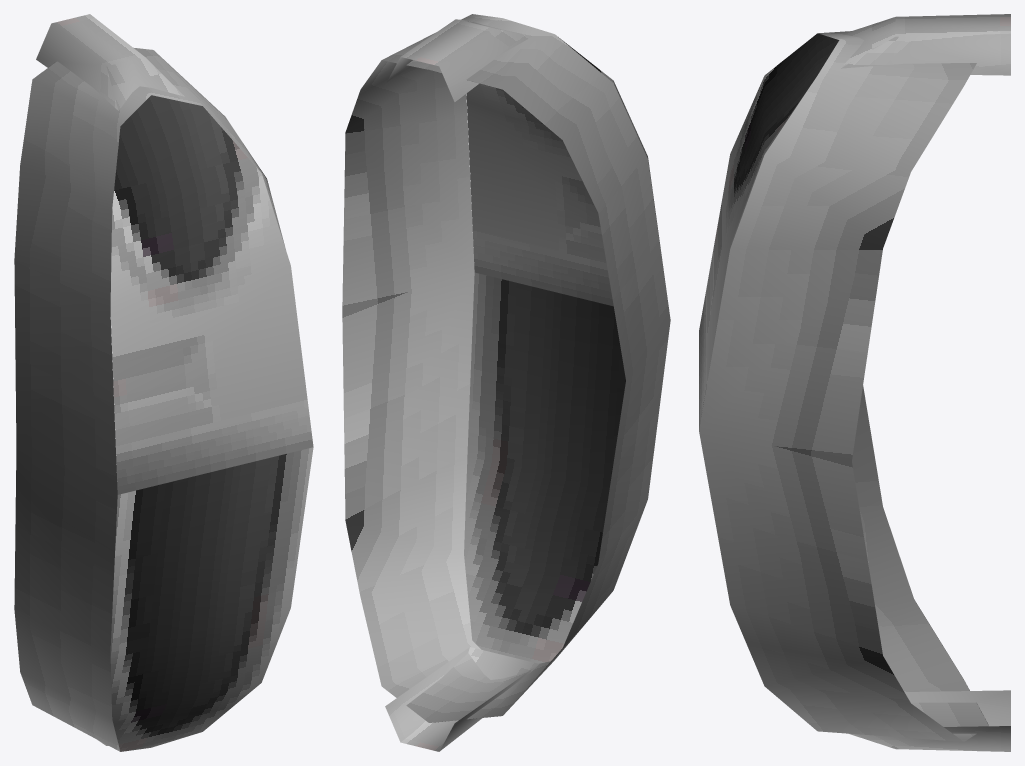
The model's file is acc_glass_cyber.dae.
3 renders of one model, left to right at view 1: azimuth 30°, elevation 25°; view 2: azimuth 150°, elevation 25°; view 3: azimuth 270°, elevation 25°, orthographic. The views are drawn at different scales.
Parts seen in each view (by area): view 1: acc_glass_cyber; view 2: acc_glass_cyber; view 3: acc_glass_cyber.
Boxes of the visible parts, x1=… form: acc_glass_cyber: x1=14, y1=14, x2=313, y2=751; acc_glass_cyber: x1=342, y1=14, x2=670, y2=751; acc_glass_cyber: x1=699, y1=14, x2=1010, y2=751.
Size of the model in its own units: 8.13 by 18.77 by 7.39.
Materials: 1 (1 with a texture image).
